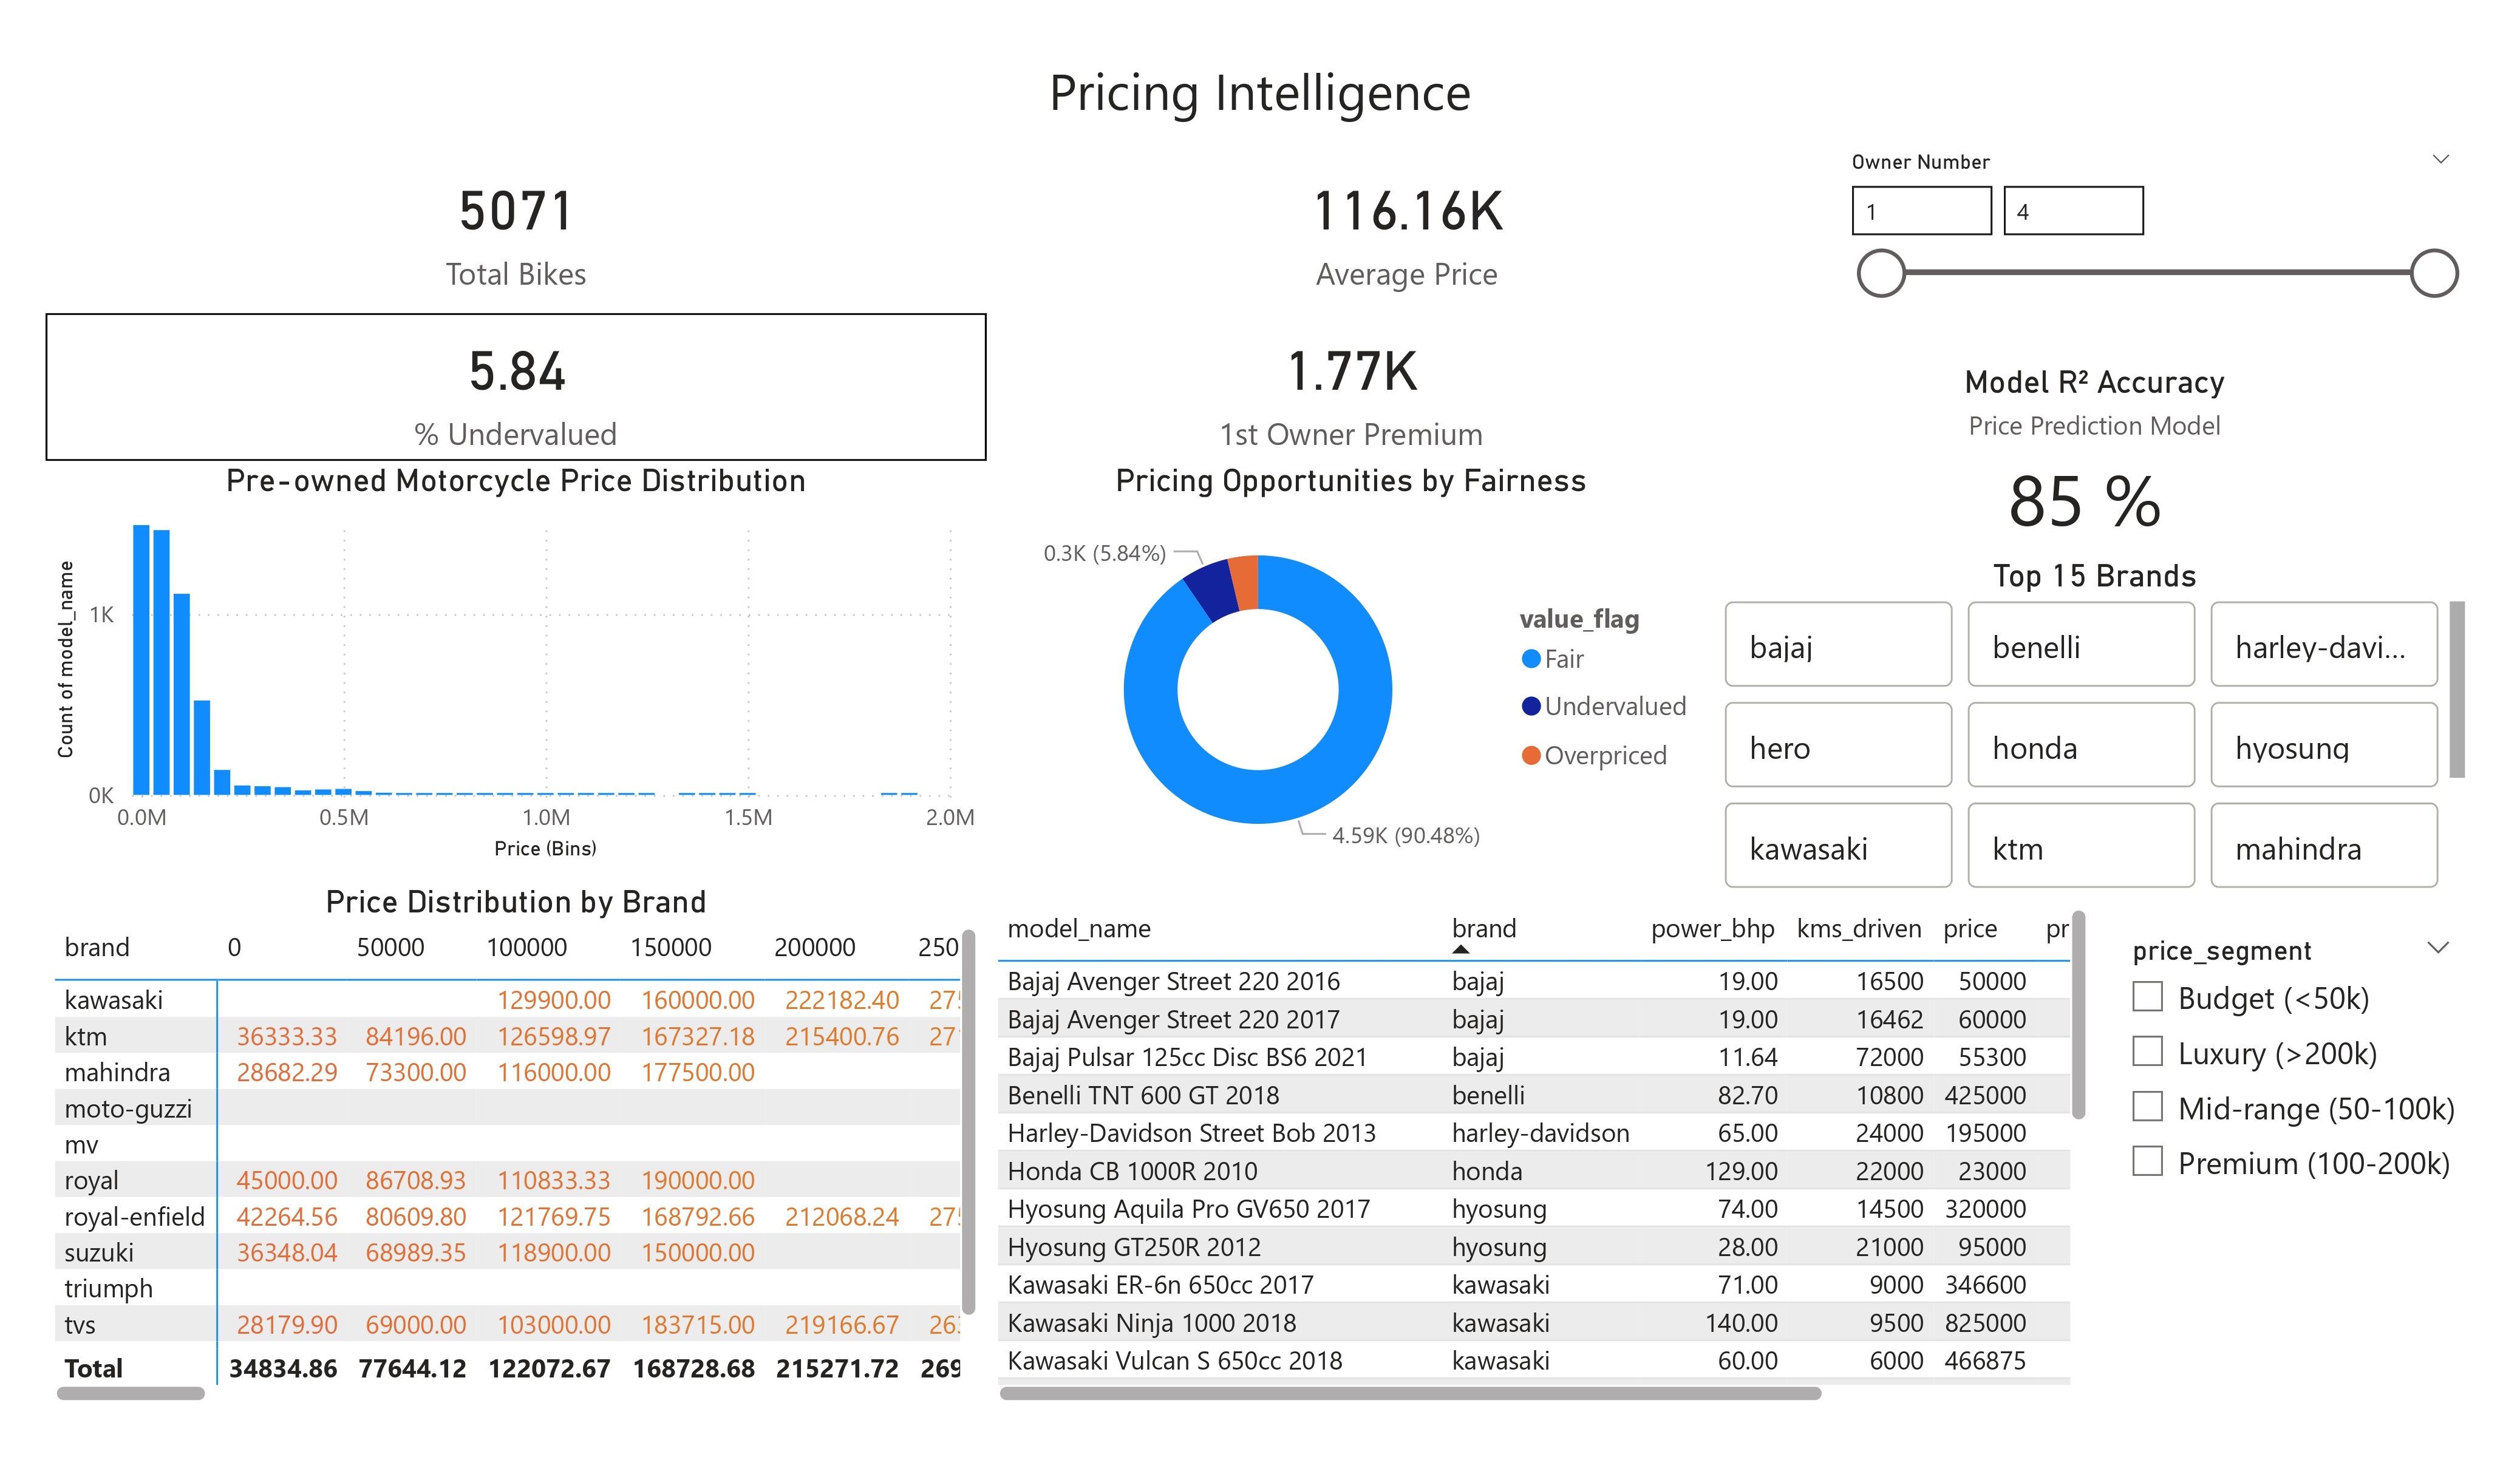

Layout of this report page (visuals, bound fields, positions):
{"tool":"powerbi","page":{"name":"Pricing Intelligence","canvas":[1280,720],"ordinal":0},"visuals":[{"type":"card","fields":{"Values":["bike_factory_dashboard.% Undervalued"]},"box":[0,141,496,77.8],"z":0},{"type":"card","fields":{"Values":["bike_factory_dashboard.1st Owner Premium"]},"box":[496,141,384.2,77.8],"z":1000},{"type":"textbox","title":"Model R² Accuracy","box":[880.2,167.3,399.8,102.1],"z":2000},{"type":"textbox","title":"Model R² Accuracy","box":[0,0,1280,49.6],"z":3000},{"type":"columnChart","title":"Pre-owned Motorcycle Price Distribution","fields":{"Category":["bike_factory_dashboard.price (bins)"],"Y":["CountNonNull(bike_factory_dashboard.model_name)"]},"box":[0,218.8,496,215],"z":4000},{"type":"donutChart","title":"Pricing Opportunities by Fairness","fields":{"Category":["bike_factory_dashboard.value_flag"],"Y":["CountNonNull(bike_factory_dashboard.model_name)"],"Series":["bike_factory_dashboard.value_flag"]},"box":[496,218.8,384.2,221.8],"z":5000},{"type":"advancedSlicerVisual","title":"Top 15 Brands","fields":{"Values":["bike_factory_dashboard.brand"]},"box":[880.2,269.4,399.8,180.9],"z":6000},{"type":"tableEx","fields":{"Values":["bike_factory_dashboard.model_name","bike_factory_dashboard.brand","bike_factory_dashboard.power_bhp","bike_factory_dashboard.kms_driven","bike_factory_dashboard.price","bike_factory_dashboard.predicted_price","bike_factory_dashboard.value_flag"]},"box":[496,450.3,584.6,269.4],"z":7000},{"type":"pivotTable","title":"Price Distribution by Brand","fields":{"Rows":["bike_factory_dashboard.brand"],"Values":["Avg(bike_factory_dashboard.price)"],"Columns":["bike_factory_dashboard.price (bins)"]},"box":[0,440.6,496,279.1],"z":8000},{"type":"slicer","fields":{"Values":["bike_factory_dashboard.price_segment"]},"box":[1087.4,464,192.6,147.8],"z":9000},{"type":"slicer","fields":{"Values":["bike_factory_dashboard.owner_num"]},"box":[938.6,49.6,341.4,91.4],"z":10000},{"type":"card","fields":{"Values":["CountNonNull(bike_factory_dashboard.brand)"]},"box":[0,49.6,496,91.4],"z":11000},{"type":"card","fields":{"Values":["Avg(bike_factory_dashboard.price)"]},"box":[496,49.6,442.6,91.4],"z":12000}]}

Visuals, with their boxes on the page's 1280x720 design canvas (x1, y1, x2, y2). These are canvas units, not pixel positions in the 2520x1457 screenshot, which may show the page scaled, cropped or inside an application window:
card - bike_factory_dashboard.% Undervalued: Rect(0, 141, 496, 219)
card - bike_factory_dashboard.1st Owner Premium: Rect(496, 141, 880, 219)
"Model R² Accuracy" textbox: Rect(880, 167, 1280, 269)
"Model R² Accuracy" textbox: Rect(0, 0, 1280, 50)
"Pre-owned Motorcycle Price Distribution" columnChart: Rect(0, 219, 496, 434)
"Pricing Opportunities by Fairness" donutChart: Rect(496, 219, 880, 441)
"Top 15 Brands" advancedSlicerVisual: Rect(880, 269, 1280, 450)
tableEx - bike_factory_dashboard.model_name x bike_factory_dashboard.brand: Rect(496, 450, 1081, 720)
"Price Distribution by Brand" pivotTable: Rect(0, 441, 496, 720)
slicer - bike_factory_dashboard.price_segment: Rect(1087, 464, 1280, 612)
slicer - bike_factory_dashboard.owner_num: Rect(939, 50, 1280, 141)
card - CountNonNull(bike_factory_dashboard.brand): Rect(0, 50, 496, 141)
card - Avg(bike_factory_dashboard.price): Rect(496, 50, 939, 141)
